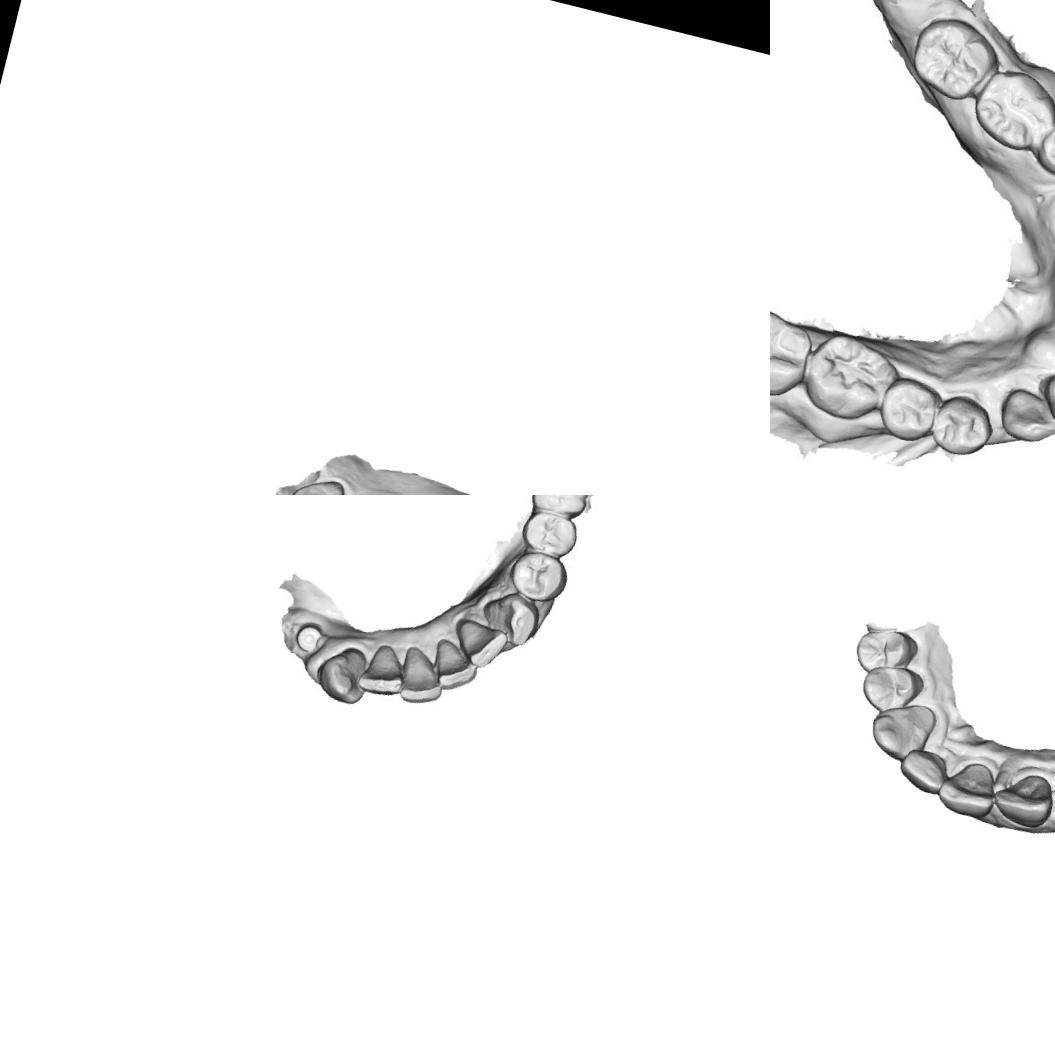canine: (864, 693, 940, 767), (310, 640, 374, 709), (994, 384, 1055, 448), (478, 592, 540, 648), (284, 469, 347, 495)
incisor: (933, 754, 1002, 822), (987, 764, 1055, 831), (393, 645, 452, 710), (426, 636, 485, 697), (893, 743, 951, 797), (356, 642, 410, 698), (451, 618, 507, 669), (1036, 371, 1055, 431)
molar: (798, 326, 905, 430), (904, 10, 1005, 108), (964, 61, 1055, 158), (770, 300, 818, 404)
premolar: (926, 388, 999, 463), (872, 370, 944, 446), (855, 657, 927, 721), (848, 621, 920, 683), (512, 550, 568, 604), (521, 510, 579, 562), (1031, 114, 1055, 185), (531, 495, 589, 520)
